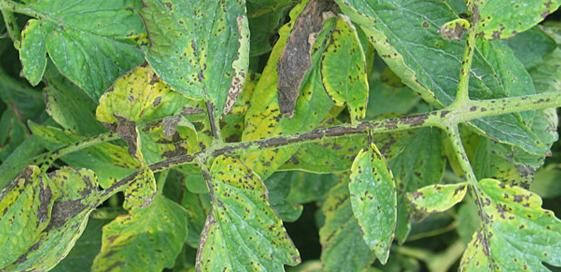Tomato leaf bacterial spot: (285, 0, 556, 150), (12, 0, 180, 108), (179, 155, 324, 272), (128, 0, 261, 127), (445, 164, 561, 272), (78, 188, 186, 272), (342, 140, 404, 268), (0, 156, 56, 272), (315, 18, 373, 125), (401, 181, 472, 219)
